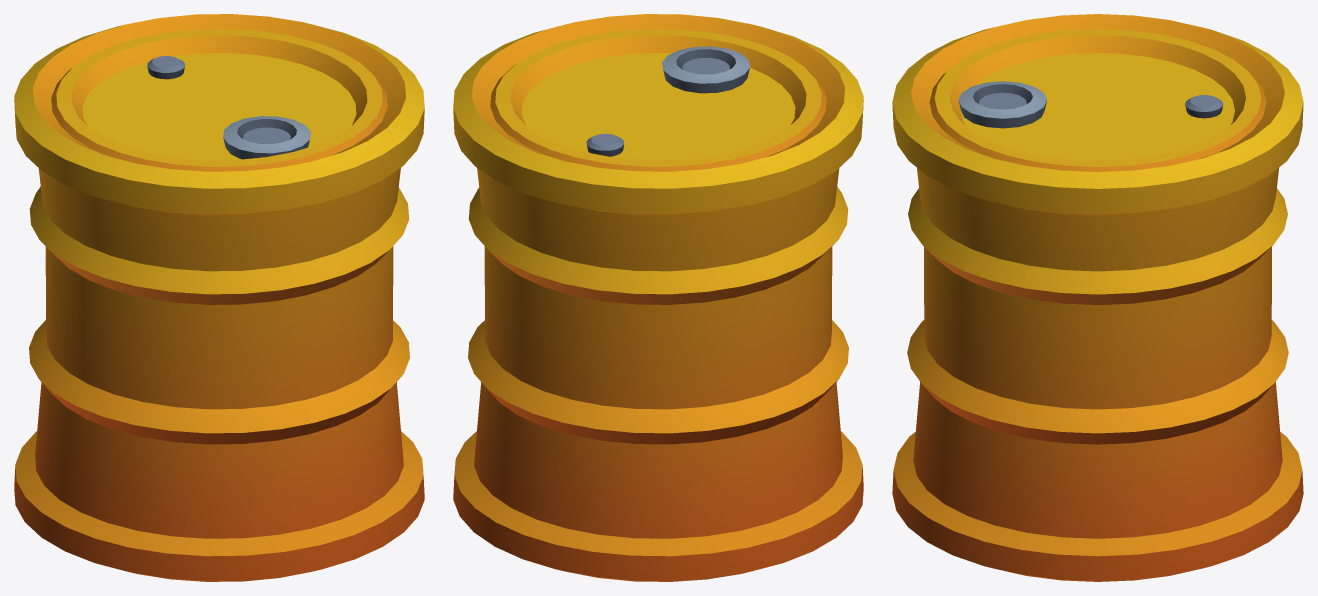
Rendered from fuel_a.fbx.
3 views of the same model, side by side, from view 1: azimuth 30°, elevation 25°; view 2: azimuth 150°, elevation 25°; view 3: azimuth 270°, elevation 25° (orthographic).
Visible parts, largest first — view 1: fuel_tank1; view 2: fuel_tank1; view 3: fuel_tank1.
Part boxes in pixels (left/top/right/bottom): fuel_tank1: left=14, top=14, right=424, bottom=581; fuel_tank1: left=453, top=14, right=863, bottom=581; fuel_tank1: left=892, top=14, right=1303, bottom=581.
Bounding box in the file's own units: 72.79 × 80.08 × 72.79.
